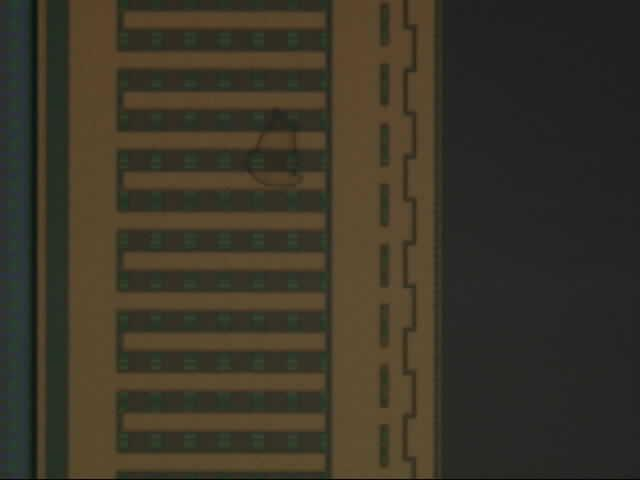PIQ PARTICLE: (241, 106, 307, 194)
